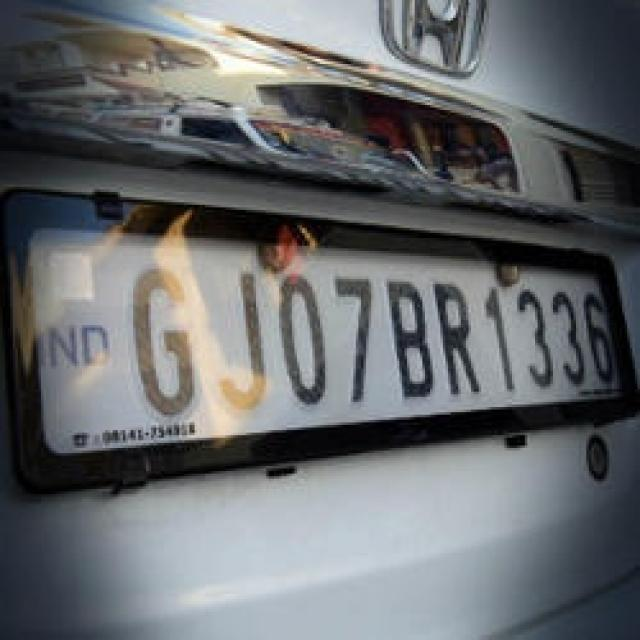number_plate: (26, 197, 627, 420)
